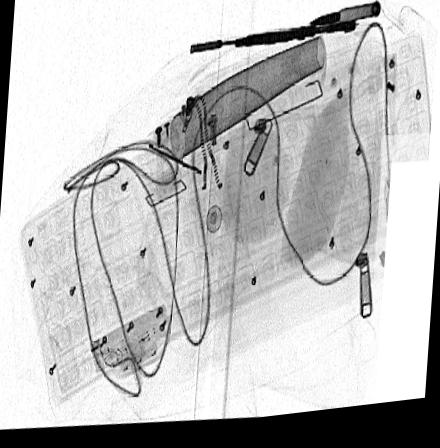Bullet: (309, 10, 381, 34)
Gun: (189, 29, 357, 57)
